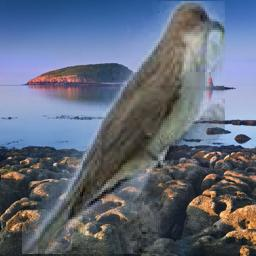Cuckoo: (23, 2, 226, 255)
